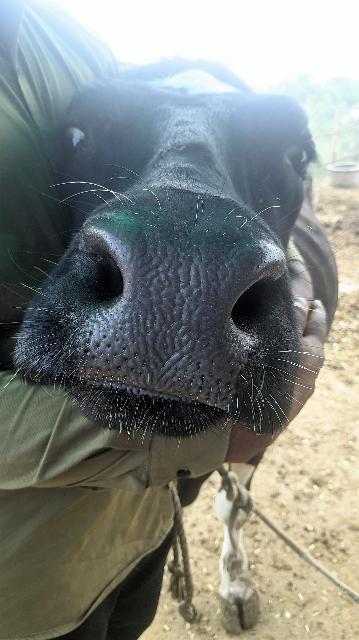Muzzle: (92, 222, 242, 394)
